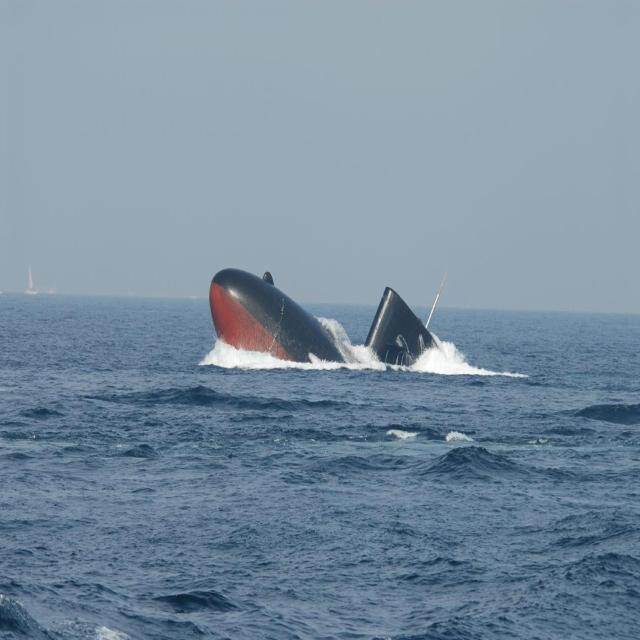submarine: (205, 262, 461, 377)
